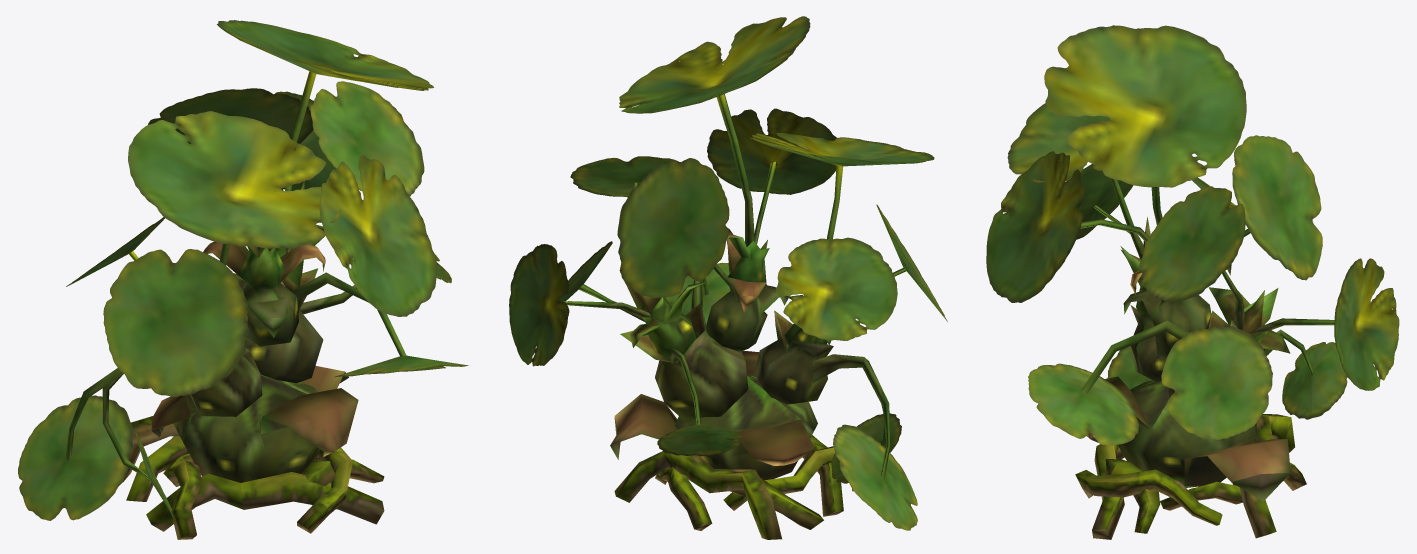
File: DN_lv4_Plant_A.FBX
3 renders of one model, left to right at view 1: azimuth 30°, elevation 25°; view 2: azimuth 150°, elevation 25°; view 3: azimuth 270°, elevation 25°, orthographic. The views are drawn at different scales.
Parts seen in each view (by area): view 1: DN_lv4_Plant_A; view 2: DN_lv4_Plant_A; view 3: DN_lv4_Plant_A.
Part boxes in pixels (x1,y1,x2,y2): DN_lv4_Plant_A: (18,20,468,539); DN_lv4_Plant_A: (509,16,947,539); DN_lv4_Plant_A: (986,25,1399,539).
Size of the model in its own units: 912 by 1060 by 866.
